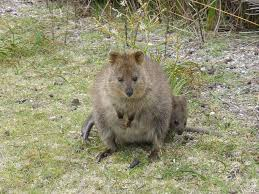quokka: (68, 43, 198, 163)
